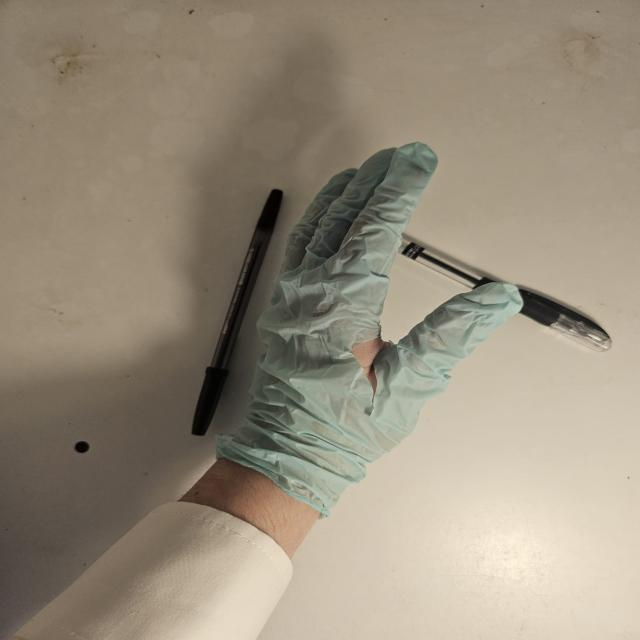gloves_damaged: (214, 139, 528, 516)
